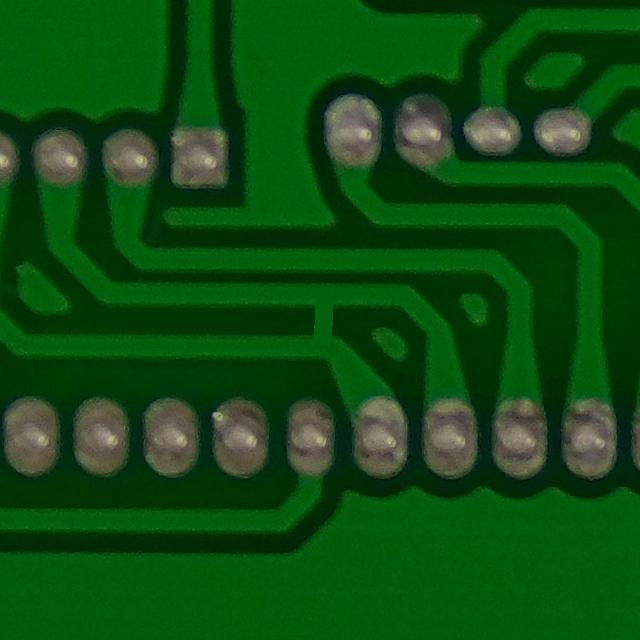short: (262, 278, 378, 363)
